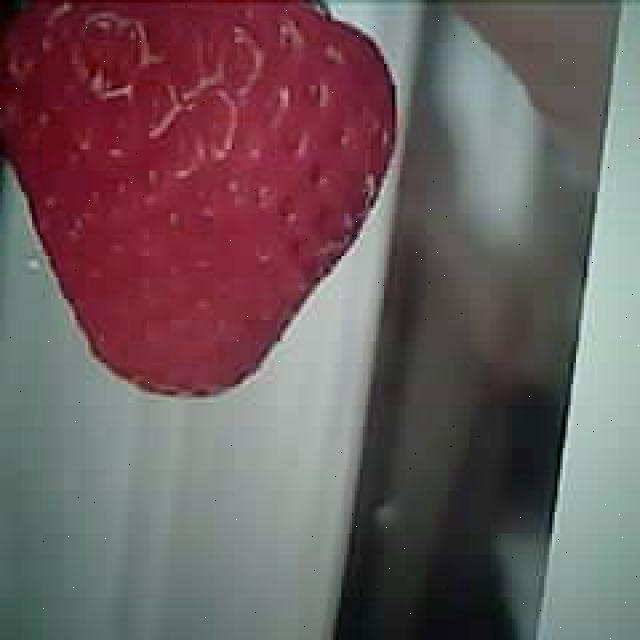ripe: (0, 0, 398, 397)
